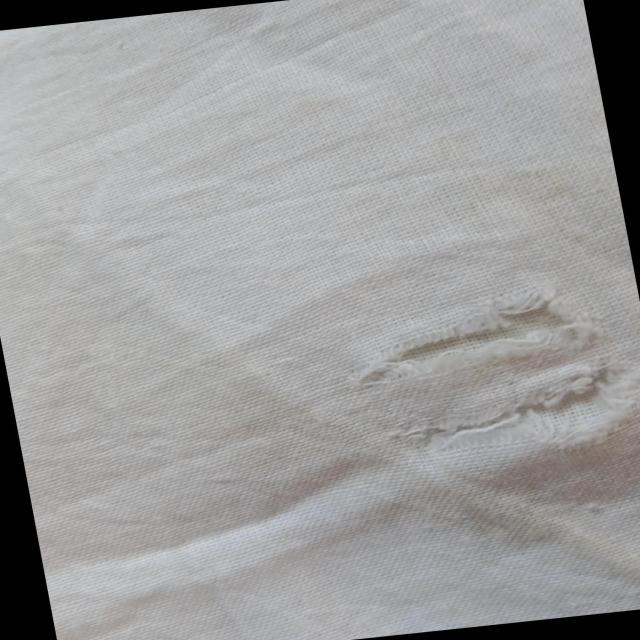cut: (326, 274, 637, 470)
